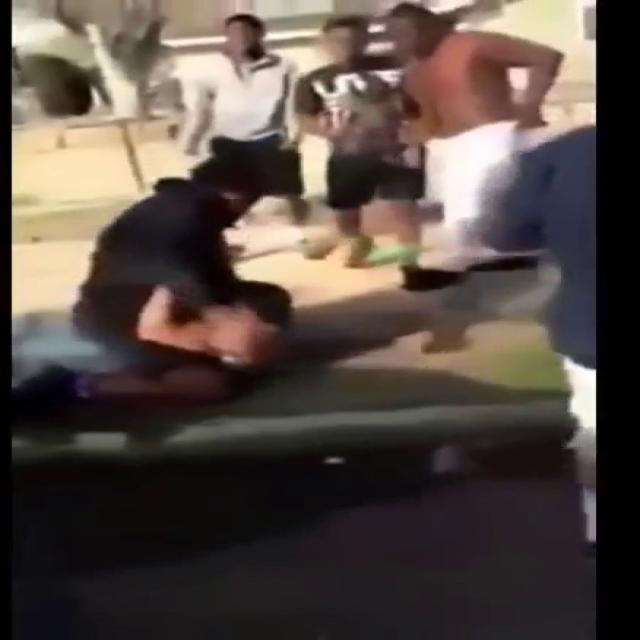Violence: (15, 149, 293, 407)
